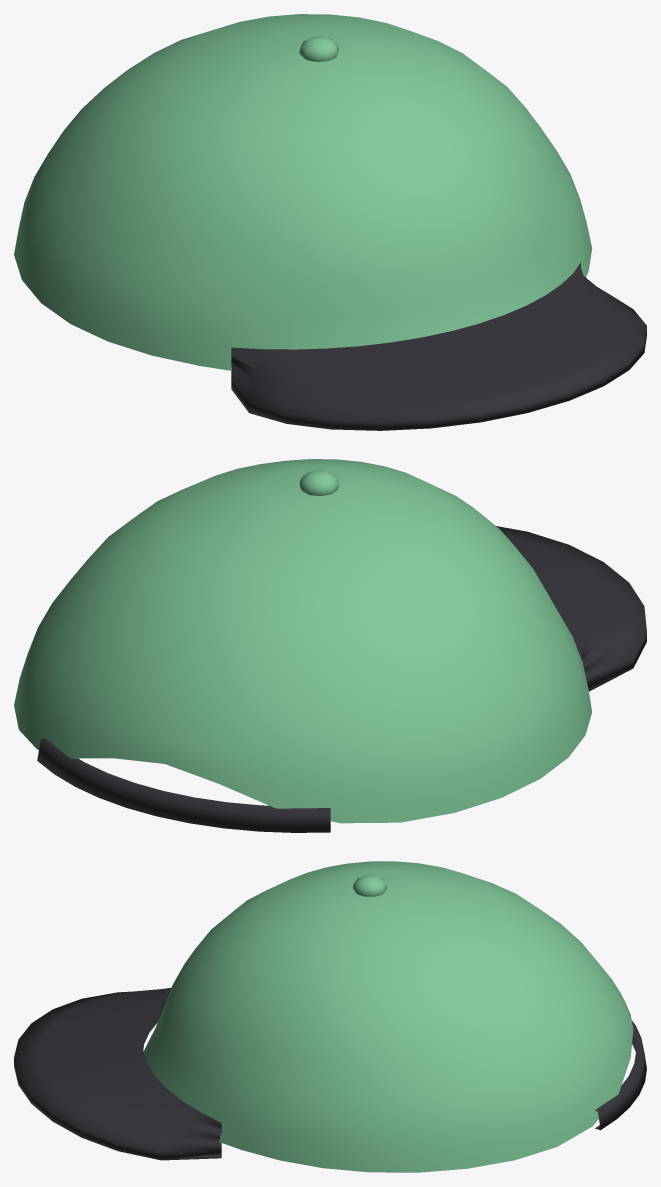
The model's file is gorro_beisbol.glb.
3 views of the same model, one above another, from view 1: azimuth 30°, elevation 25°; view 2: azimuth 150°, elevation 25°; view 3: azimuth 270°, elevation 25° (orthographic). The views are drawn at different scales.
Parts seen in each view (by area): view 1: pieza; view 2: pieza; view 3: pieza.
Boxes of the visible parts, x1=… form: pieza: x1=14, y1=14, x2=646, y2=430; pieza: x1=14, y1=459, x2=646, y2=832; pieza: x1=14, y1=861, x2=646, y2=1172.
Bounding box in the file's own units: 1.07 × 0.5012 × 1.38.
